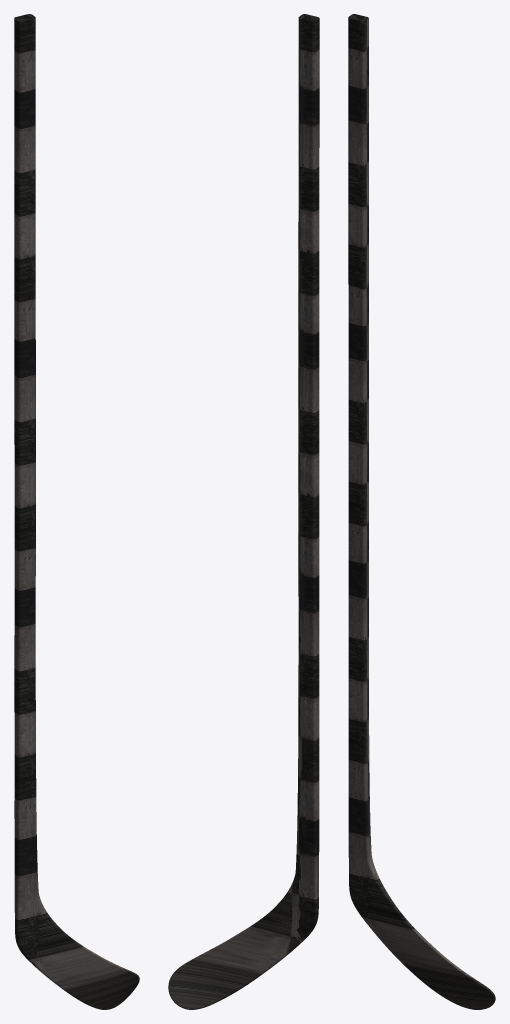
File: P25-1-4-ST-LIE6_0.glb
3 renders of one model, left to right at view 1: azimuth 30°, elevation 25°; view 2: azimuth 150°, elevation 25°; view 3: azimuth 330°, elevation 25°, orthographic. The views are drawn at different scales.
Visible parts, largest first — view 1: geometry_0; view 2: geometry_0; view 3: geometry_0.
Part boxes in pixels (box(x1,y1,x2,y2)): geometry_0: box(14, 14, 139, 1009); geometry_0: box(168, 14, 319, 1009); geometry_0: box(348, 14, 495, 1009).
Bounding box in the file's own units: 231 × 1650 × 64.7.
Materials: 1 (1 with a texture image).
